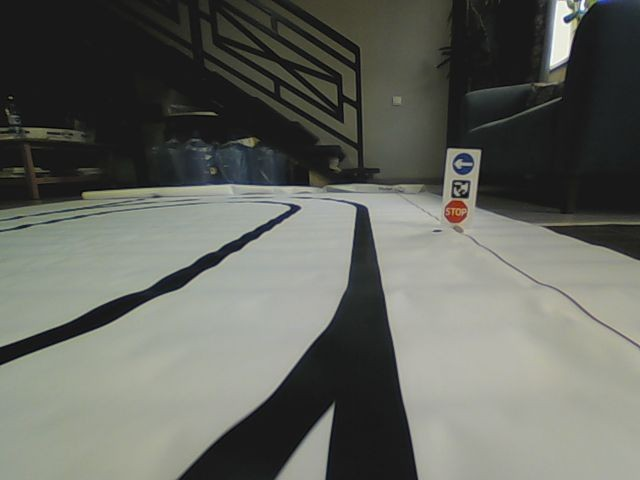Stop: (442, 198, 470, 224)
